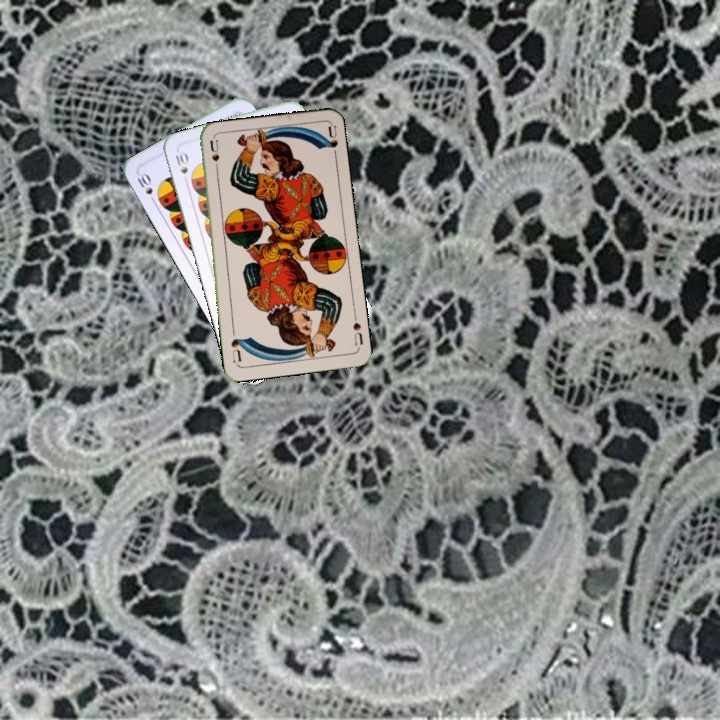S10: (132, 168, 163, 207), (171, 147, 190, 176)
SU: (206, 137, 222, 178), (349, 318, 366, 350)
